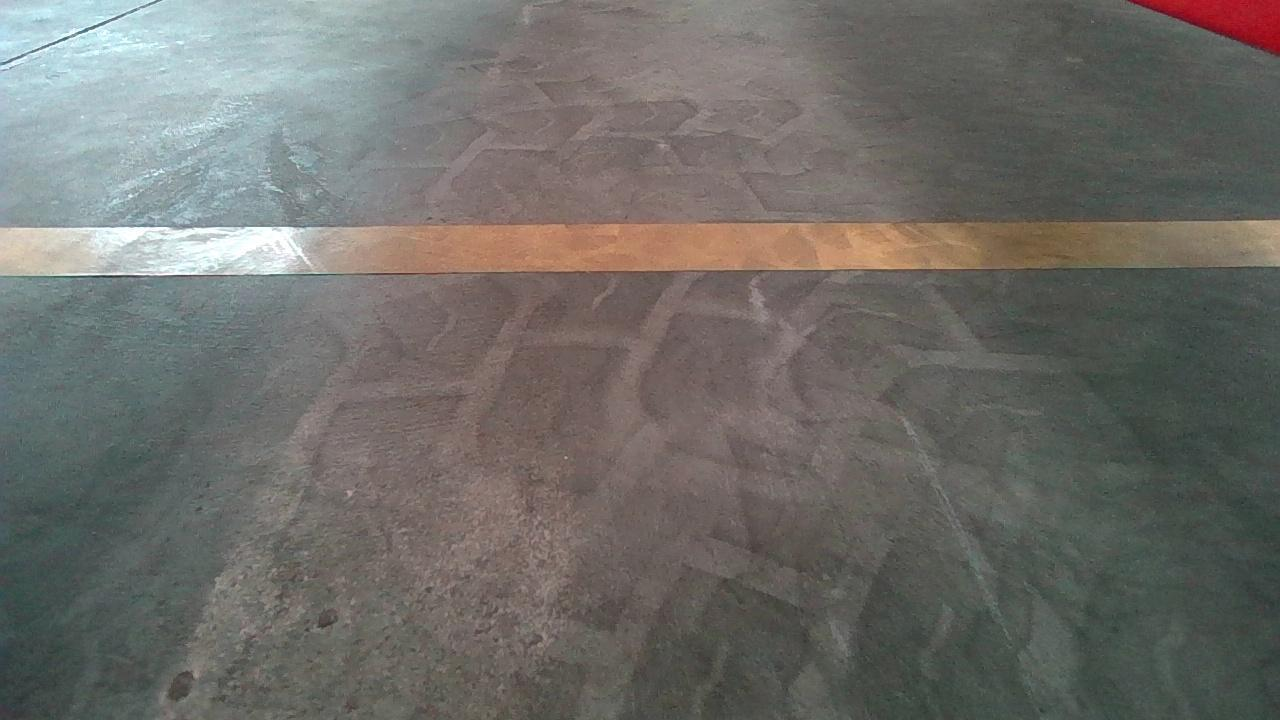yellow_line: (13, 212, 1280, 274)
